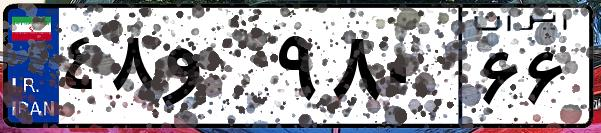0: (385, 28, 445, 110)
4: (57, 26, 110, 100)
6: (475, 38, 525, 113), (525, 38, 570, 115)
8: (330, 28, 385, 110), (110, 28, 158, 98)
9: (270, 28, 330, 110)
و: (158, 20, 270, 120)
